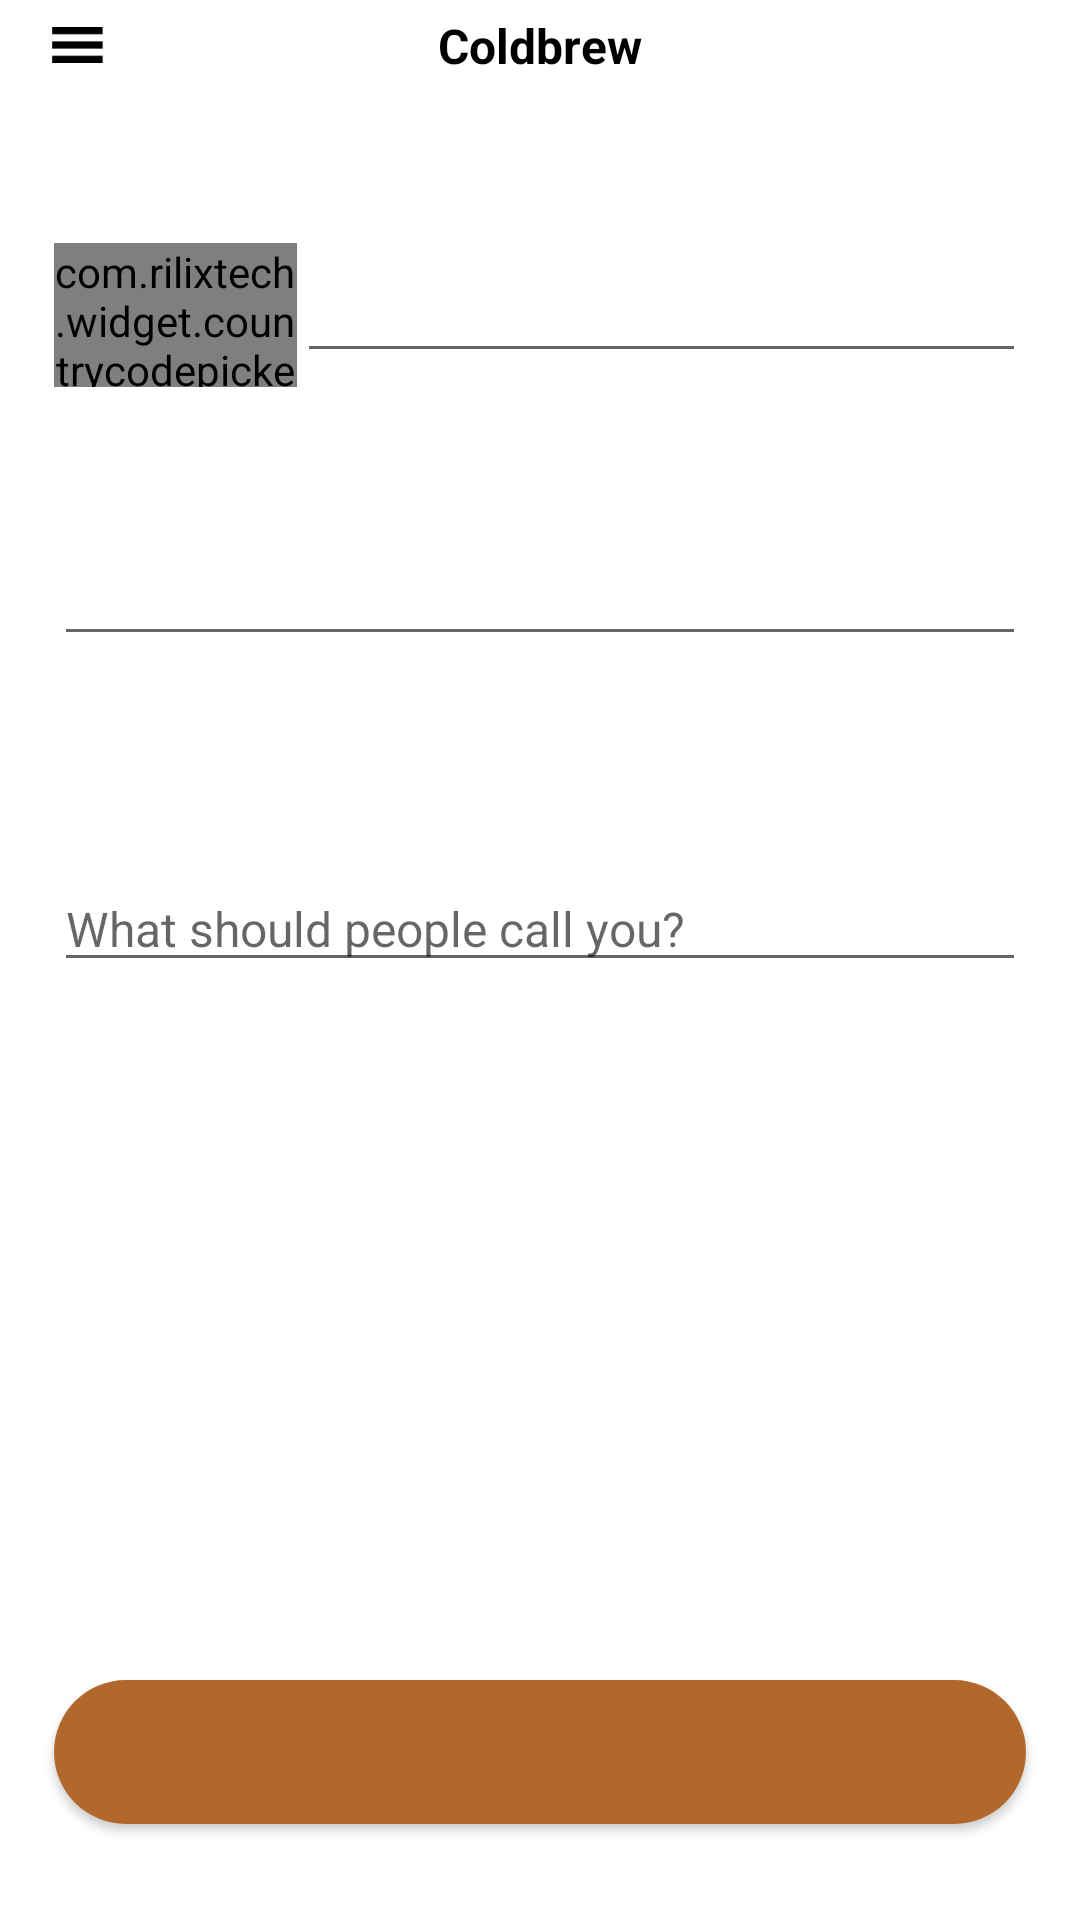

Locate icon controls on the screen. Image size 1080*1920, boxes as (x1, y1, x2, y2).
menu: (52, 27, 103, 63)
